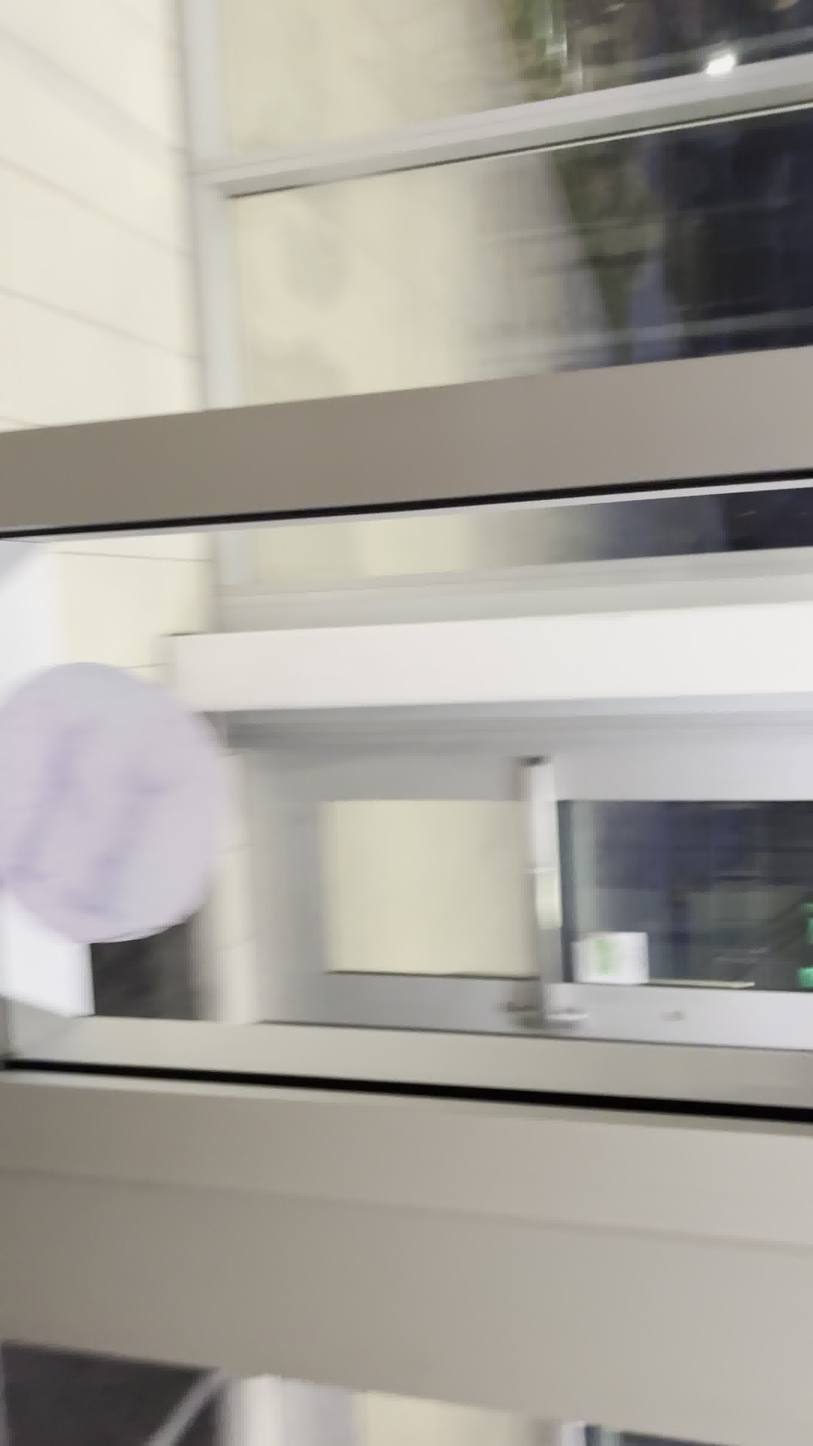Target: (2, 674, 211, 945)
